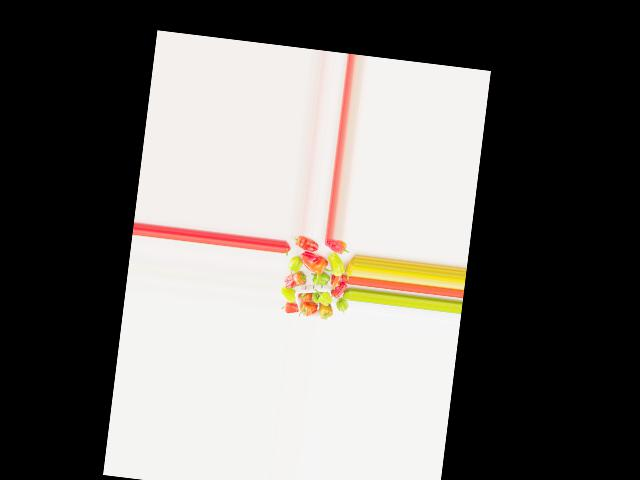bell_pepper: (326, 238, 351, 257)
